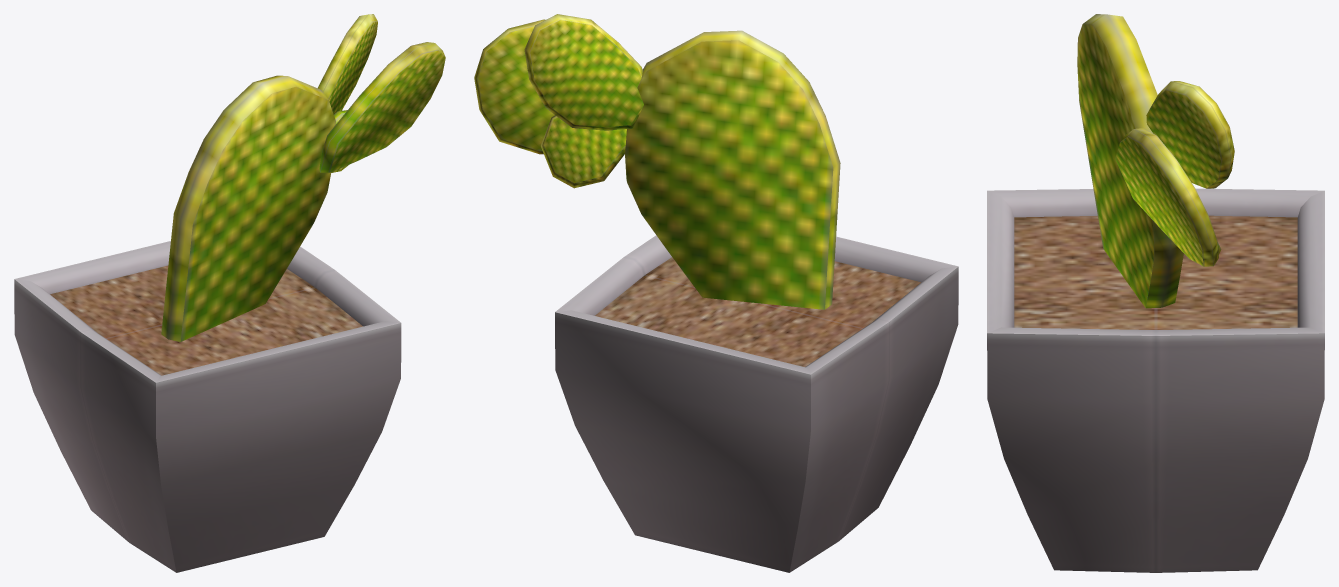
The model's file is ZhiBanShi_01_xianrenzhang_01.FBX.
The picture shows the model from 3 angles, left to right: view 1: azimuth 30°, elevation 25°; view 2: azimuth 150°, elevation 25°; view 3: azimuth 270°, elevation 25°; orthographic projection. The views are drawn at different scales.
Visible parts, largest first — view 1: ZhiBanShi_xianrenzhang_01; view 2: ZhiBanShi_xianrenzhang_01; view 3: ZhiBanShi_xianrenzhang_01.
Part boxes in pixels (box(x1,y1,x2,y2)): ZhiBanShi_xianrenzhang_01: box(14, 14, 445, 572); ZhiBanShi_xianrenzhang_01: box(474, 14, 958, 572); ZhiBanShi_xianrenzhang_01: box(987, 14, 1324, 572).
Bounding box in the file's own units: 72.93 × 83.77 × 47.31.
